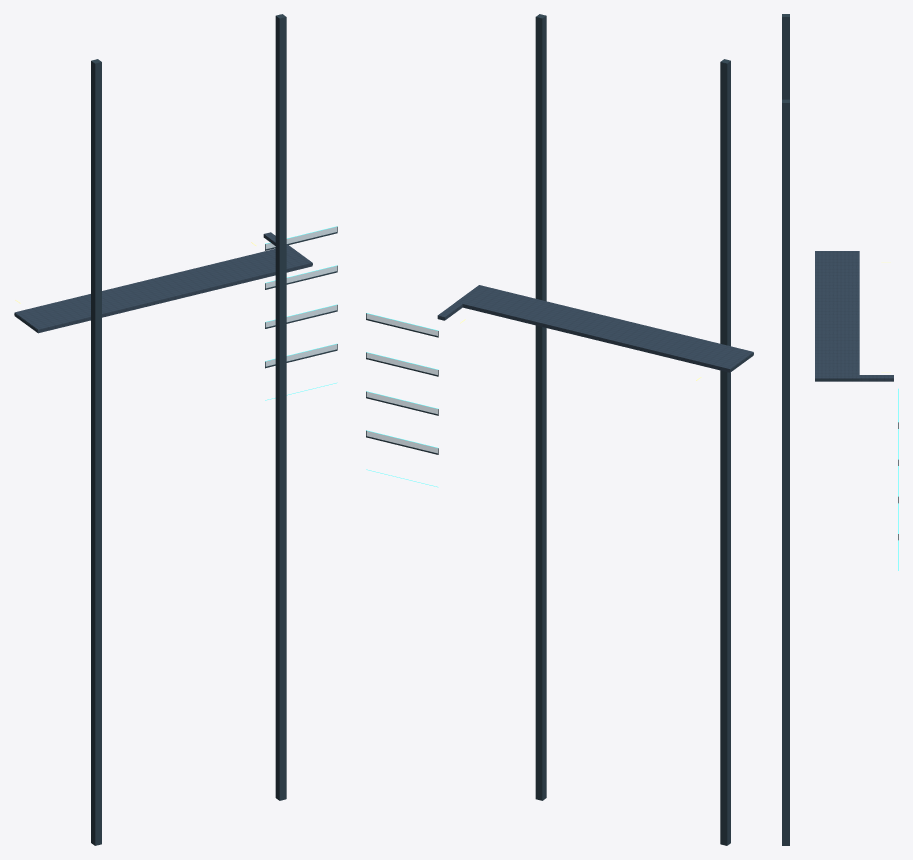
Rendered from v02-detailed-02-07-coffered.glb.
The picture shows the model from 3 angles, left to right: view 1: azimuth 30°, elevation 25°; view 2: azimuth 150°, elevation 25°; view 3: azimuth 270°, elevation 25°; orthographic projection. The views are drawn at different scales.
Visible parts, largest first — view 1: v02-detailed-02-07-coffered; view 2: v02-detailed-02-07-coffered; view 3: v02-detailed-02-07-coffered.
Boxes of the visible parts, box(x1,y1,x2,y2) form: v02-detailed-02-07-coffered: box(14, 14, 337, 845); v02-detailed-02-07-coffered: box(366, 14, 753, 845); v02-detailed-02-07-coffered: box(782, 14, 898, 845).
Size of the model in its own units: 58.85 by 128 by 18.21.
5 materials, 1 textured.
